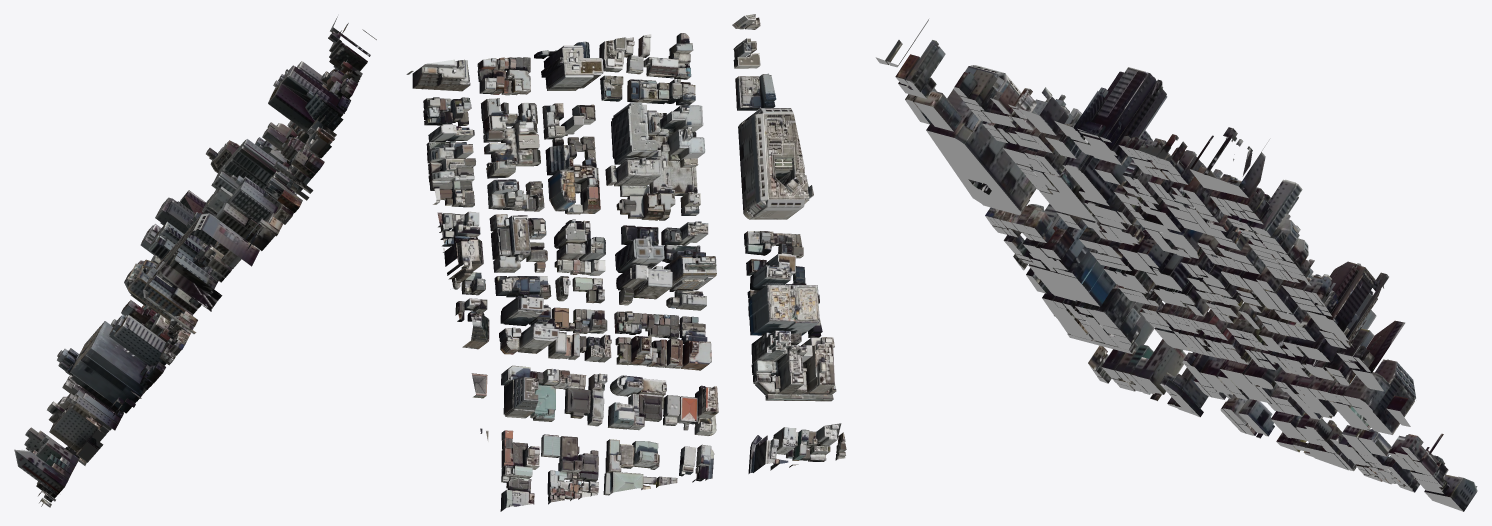
The model's file is 19765_bldg_Building.glb.
3 renders of one model, left to right at view 1: azimuth 30°, elevation 25°; view 2: azimuth 150°, elevation 25°; view 3: azimuth 270°, elevation 25°, orthographic. The views are drawn at different scales.
Bounding box in the file's own units: 308 × 270 × 309.
Materials: 8 (7 with a texture image).
